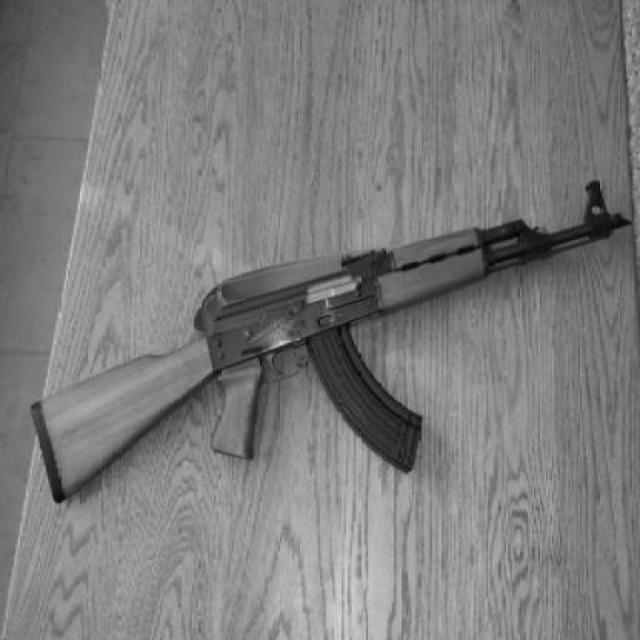weapon: (29, 179, 631, 505)
